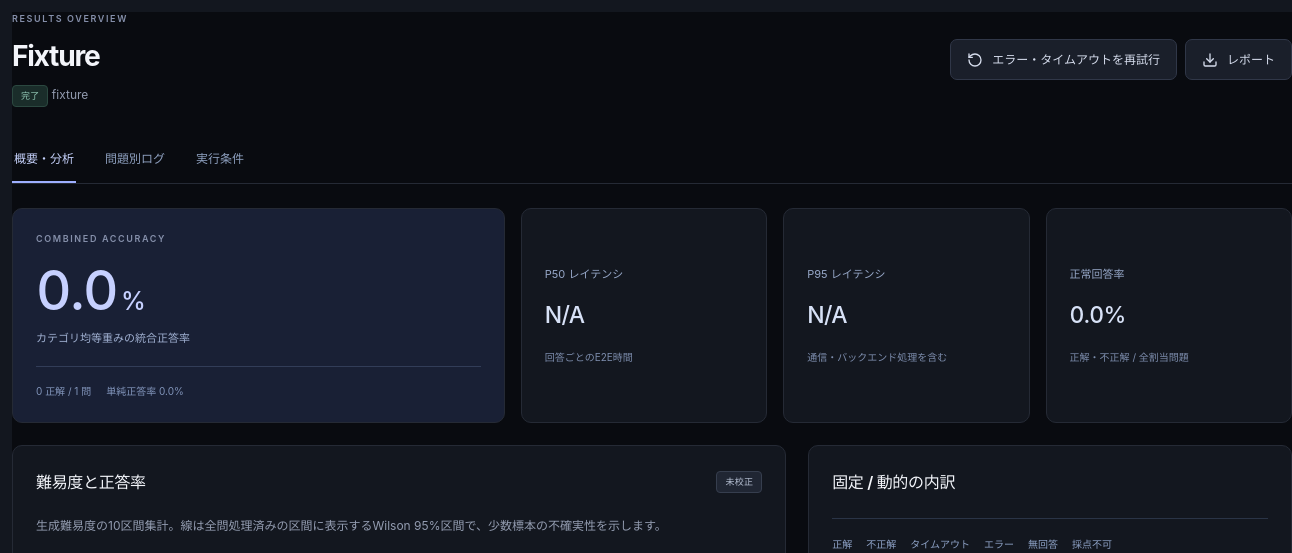
Test: uses the control response to reopen retry streaming without an extra required GET
Click the button "エラー・タイムアウトを再試行": (1064, 60) [950, 39, 1177, 80]
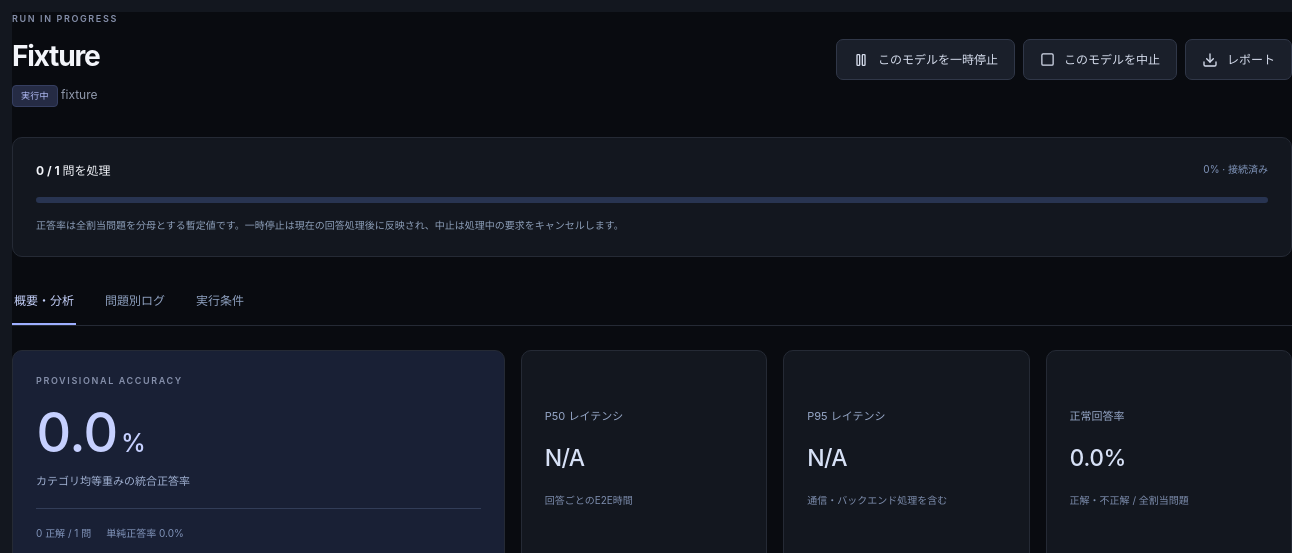
Expected: the text "実行中" is shown, [12, 85, 58, 107]
